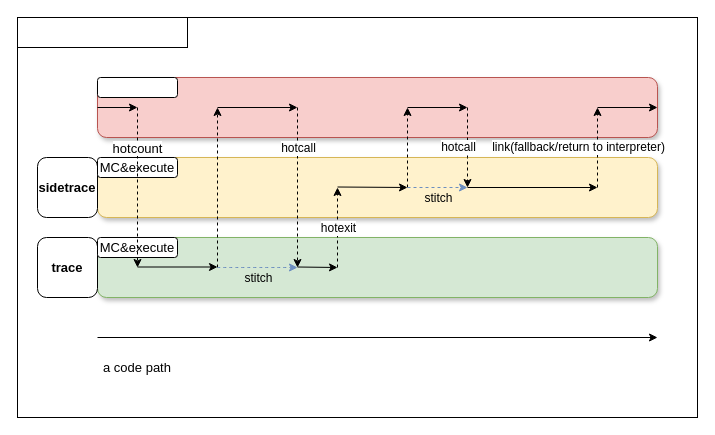
Some shapes in this 715 by 435 pixel diagram are drawn without their labels. Here are the shapes that lost their labels. From the top down, the centre of each, then its label:
point 102,32: Stitchtrace Workflow
point 137,87: BC&interpret
